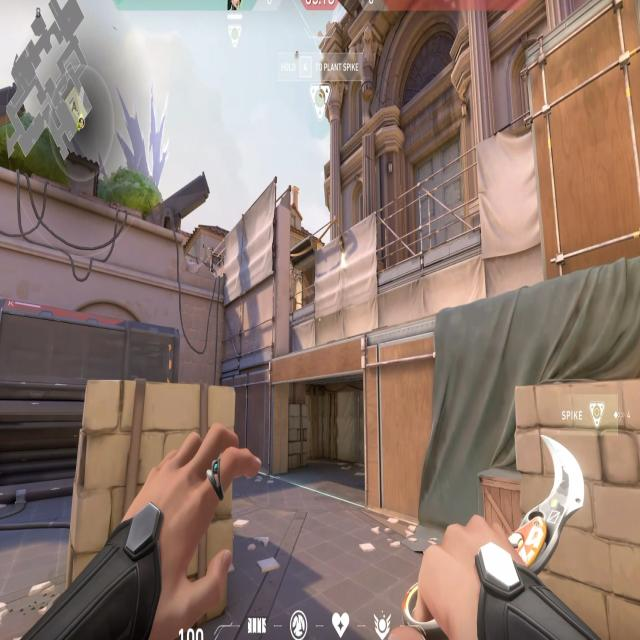A_Heaven_Box: (520, 0, 640, 281)
A_Heaven_Wall: (219, 175, 290, 379)
A_Hell: (268, 334, 373, 508)
